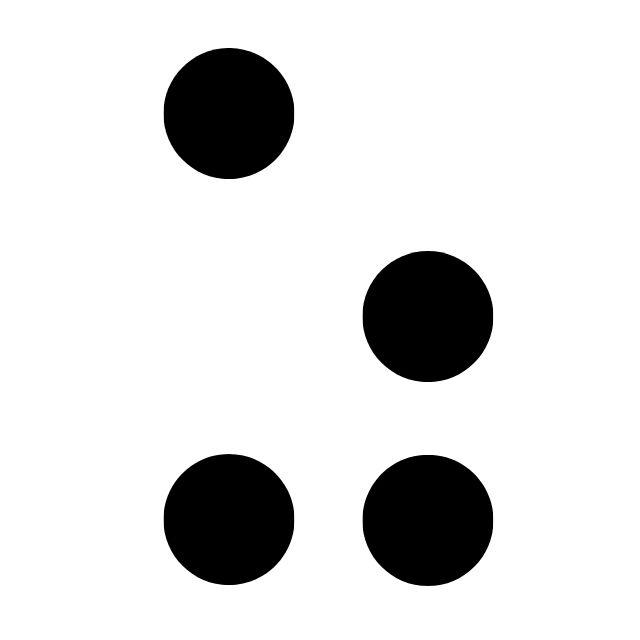z: (161, 48, 495, 585)
